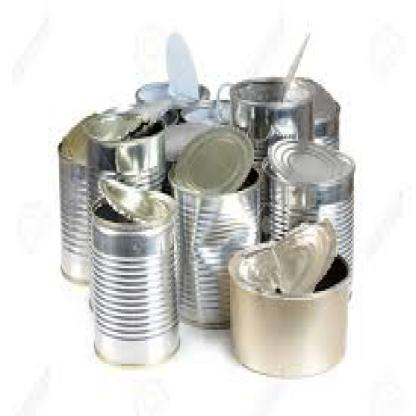METAL: (228, 239, 348, 382), (89, 191, 179, 364), (170, 157, 257, 327), (263, 139, 351, 296), (56, 141, 112, 282), (238, 218, 338, 291), (85, 114, 165, 200), (228, 82, 312, 145), (177, 123, 250, 193), (286, 75, 337, 152), (62, 109, 120, 159), (97, 175, 162, 218)
